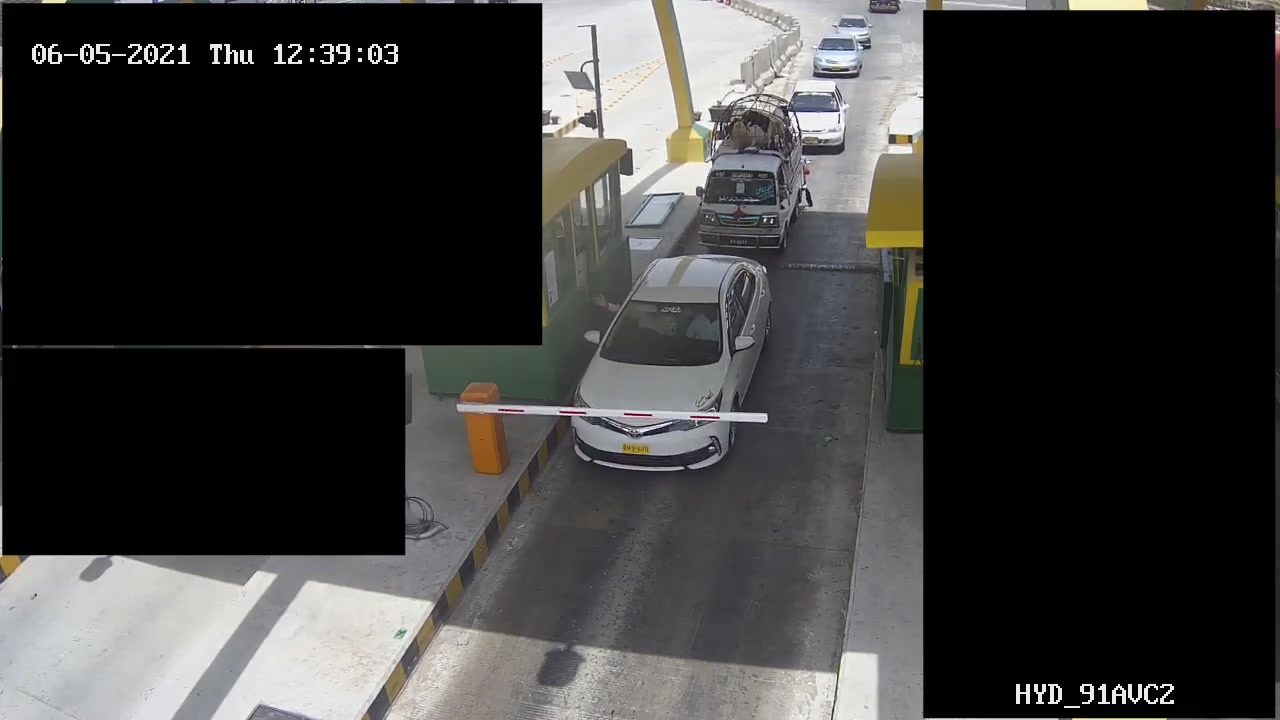F1: (571, 251, 763, 462), (683, 96, 810, 252)
